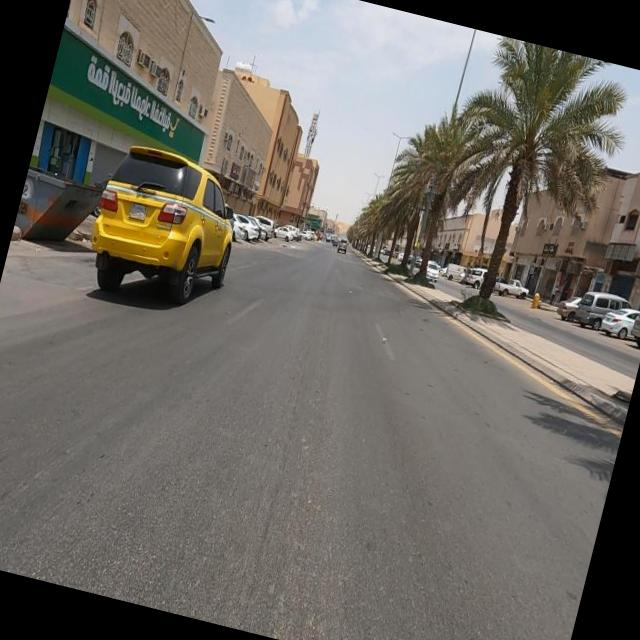debris: (583, 213, 640, 283), (548, 238, 606, 292), (228, 148, 276, 208)
